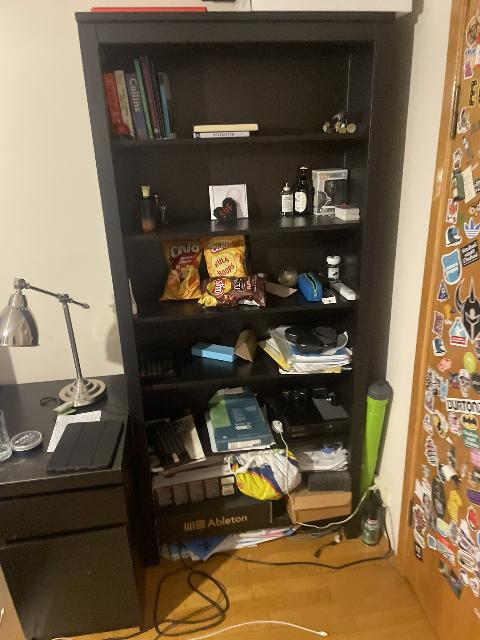Chio Cascaval 125g: (157, 239, 205, 302)
Chio Hula Hoops Cheese 70g: (203, 235, 249, 280)
Lays Beef Grilled Ribs 125g: (199, 274, 267, 308)
